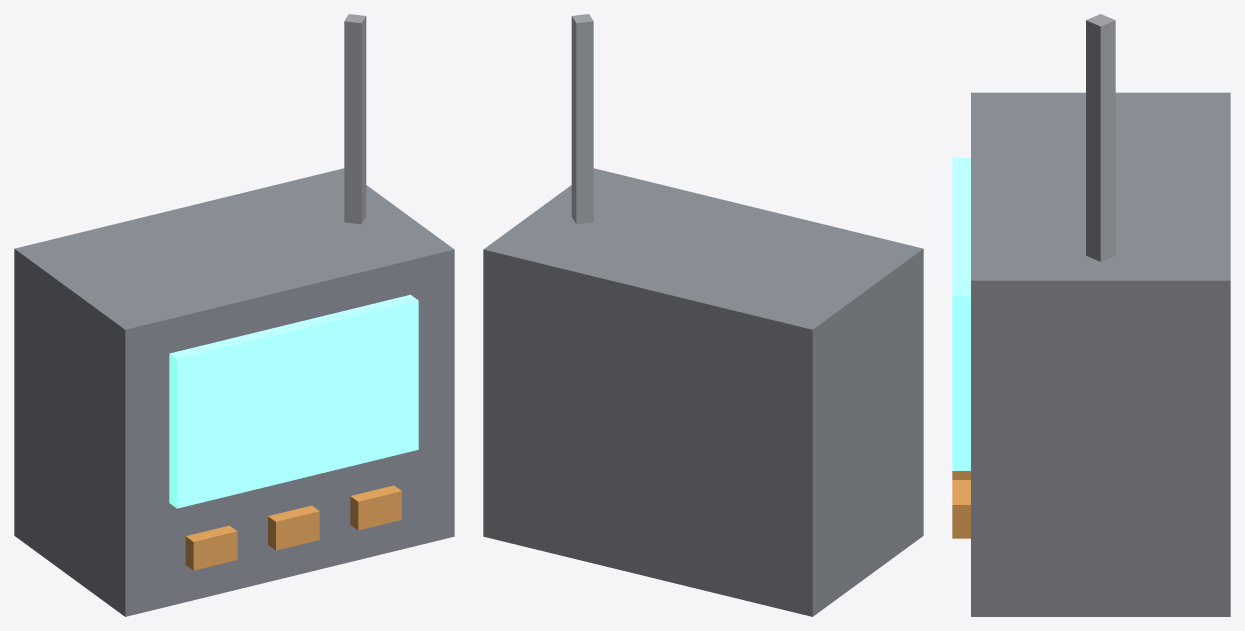
The model's file is computer.glb.
The picture shows the model from 3 angles, left to right: view 1: azimuth 30°, elevation 25°; view 2: azimuth 150°, elevation 25°; view 3: azimuth 270°, elevation 25°; orthographic projection. The views are drawn at different scales.
Parts seen in each view (by area): view 1: computer; view 2: computer; view 3: computer.
Part boxes in pixels (x1=…): computer: x1=14, y1=14, x2=454, y2=616; computer: x1=483, y1=14, x2=923, y2=616; computer: x1=952, y1=14, x2=1230, y2=616.
Bounding box in the file's own units: 0.6 × 0.85 × 0.375.
